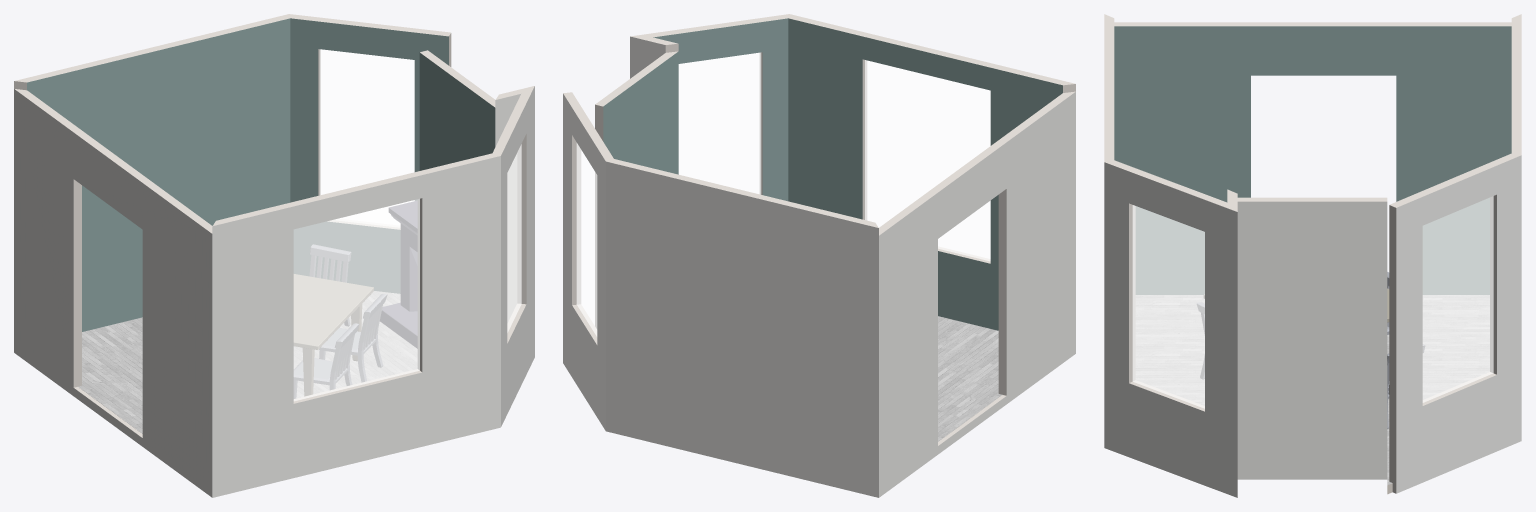
Rendered from Elks_Lodge_Poker_Room.glb.
The picture shows the model from 3 angles, left to right: view 1: azimuth 30°, elevation 25°; view 2: azimuth 150°, elevation 25°; view 3: azimuth 270°, elevation 25°; orthographic projection. The views are drawn at different scales.
Visible parts, largest first — view 1: wall_5, wall_7, wall_2, window_2, window_5, wall_9, window_0, window_3, floor_Poker_Room, wall_19, wall_3, table_dining_rect0 (+13 smaller); view 2: wall_0, wall_2, wall_17, window_2, window_5, window_1, window_4, wall_13, wall_1, wall_19, floor_Poker_Room, wall_12 (+8 smaller); view 3: wall_11, wall_6, wall_3, wall_1, floor_Poker_Room, window_1, window_4, window_0, window_3, wall_10, wall_14, wall_12 (+4 smaller).
Part boxes in pixels (left/top/right/bottom): wall_5: left=212, top=156, right=500, bottom=497; wall_7: left=27, top=18, right=290, bottom=331; wall_2: left=14, top=89, right=212, bottom=497; window_2: left=294, top=199, right=419, bottom=400; window_5: left=294, top=199, right=419, bottom=400; wall_9: left=290, top=18, right=448, bottom=293; window_0: left=320, top=49, right=414, bottom=194; window_3: left=320, top=49, right=414, bottom=194; floor_Poker_Room: left=78, top=291, right=417, bottom=433; wall_19: left=419, top=52, right=495, bottom=170; wall_3: left=501, top=86, right=534, bottom=426; table_dining_rect0: left=294, top=274, right=373, bottom=396; wall_0: left=606, top=161, right=878, bottom=497; wall_2: left=879, top=92, right=1075, bottom=497; wall_17: left=788, top=18, right=1062, bottom=330; window_2: left=865, top=60, right=990, bottom=260; window_5: left=865, top=60, right=990, bottom=260; window_1: left=679, top=52, right=760, bottom=194; window_4: left=679, top=53, right=760, bottom=194; wall_13: left=653, top=18, right=788, bottom=201; wall_1: left=563, top=93, right=605, bottom=430; wall_19: left=603, top=51, right=678, bottom=174; floor_Poker_Room: left=938, top=316, right=1002, bottom=441; wall_12: left=879, top=91, right=1075, bottom=445; wall_11: left=1114, top=26, right=1511, bottom=294; wall_6: left=1237, top=201, right=1387, bottom=479; wall_3: left=1104, top=162, right=1237, bottom=497; wall_1: left=1396, top=155, right=1521, bottom=493; floor_Poker_Room: left=1136, top=295, right=1489, bottom=485; window_1: left=1133, top=205, right=1204, bottom=408; window_4: left=1133, top=205, right=1204, bottom=408; window_0: left=1423, top=196, right=1493, bottom=402; window_3: left=1423, top=196, right=1493, bottom=402; wall_10: left=1389, top=153, right=1521, bottom=493; wall_14: left=1104, top=160, right=1236, bottom=411; wall_12: left=1114, top=22, right=1511, bottom=26.
Size of the model in its own units: 4.67 by 3.15 by 4.16.
25 materials, 1 textured.
